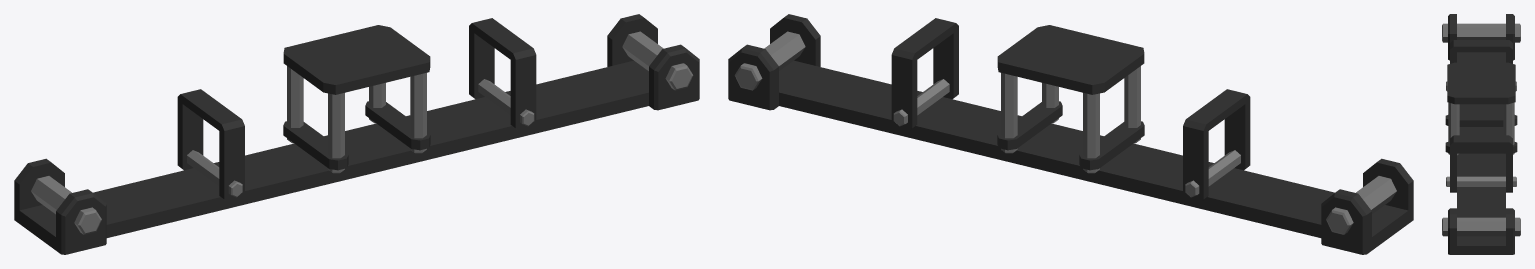
File: TanHuang_GangBan_2X7_on.FBX
3 renders of one model, left to right at view 1: azimuth 30°, elevation 25°; view 2: azimuth 150°, elevation 25°; view 3: azimuth 270°, elevation 25°, orthographic. The views are drawn at different scales.
Parts seen in each view (by area): view 1: Box079; view 2: Box079; view 3: Box079.
Part boxes in pixels (x1,y1,x2,y2): Box079: (14, 14, 699, 254); Box079: (728, 14, 1413, 254); Box079: (1442, 14, 1520, 254).
Size of the model in its own units: 7 by 1.09 by 1.11.
